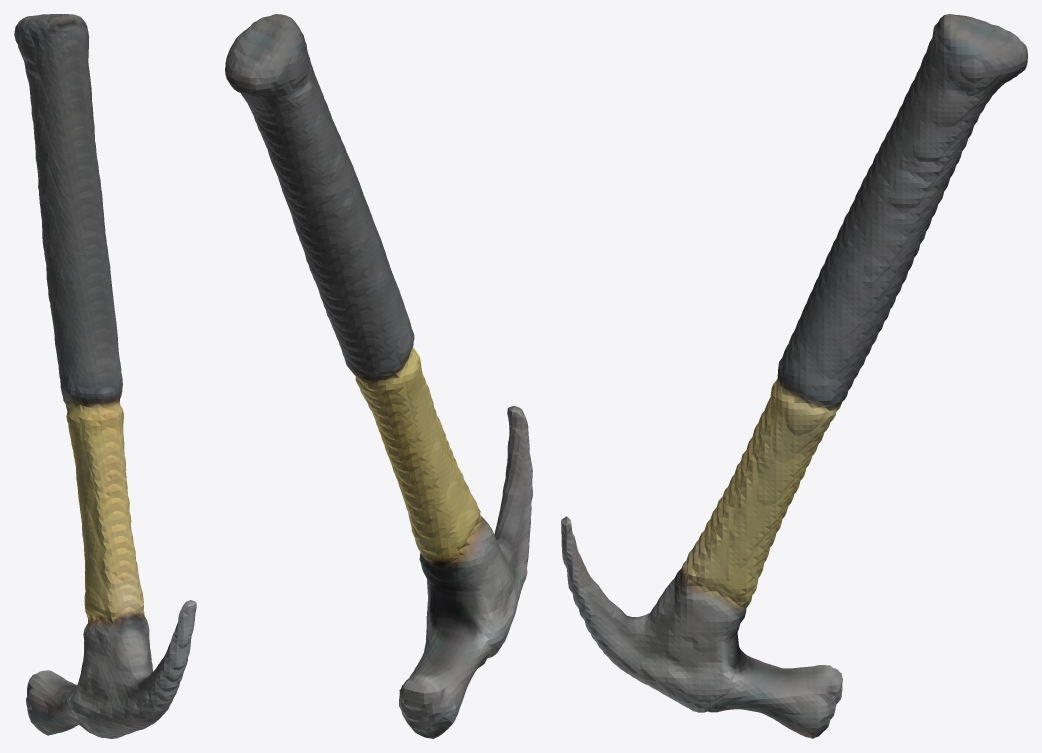
File: hammer.glb
3 renders of one model, left to right at view 1: azimuth 30°, elevation 25°; view 2: azimuth 150°, elevation 25°; view 3: azimuth 270°, elevation 25°, orthographic. The views are drawn at different scales.
Parts seen in each view (by area): view 1: world; view 2: world; view 3: world.
Part boxes in pixels (x1,y1,x2,y2): world: [14, 14, 196, 738]; world: [225, 14, 532, 738]; world: [561, 14, 1027, 738].
Bounding box in the file's own units: 0.1906 × 0.9522 × 0.5314.
